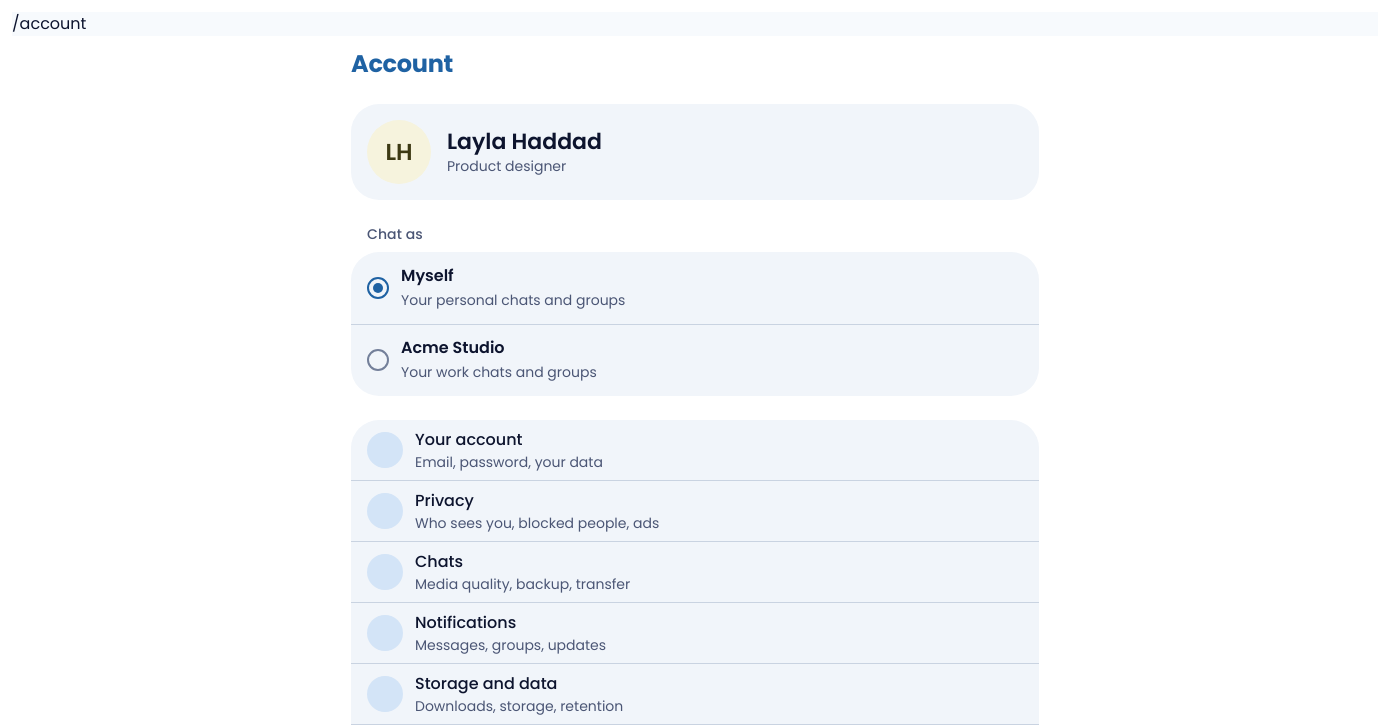
Test: settings home › opens a settings page when a row is tapped
Expected: the text "Layla Haddad" is shown, left=447, top=126, right=602, bottom=157
Click the button "Privacy Who sees you, blocked people, ads".
click(385, 511)  # box left=351, top=480, right=1039, bottom=541
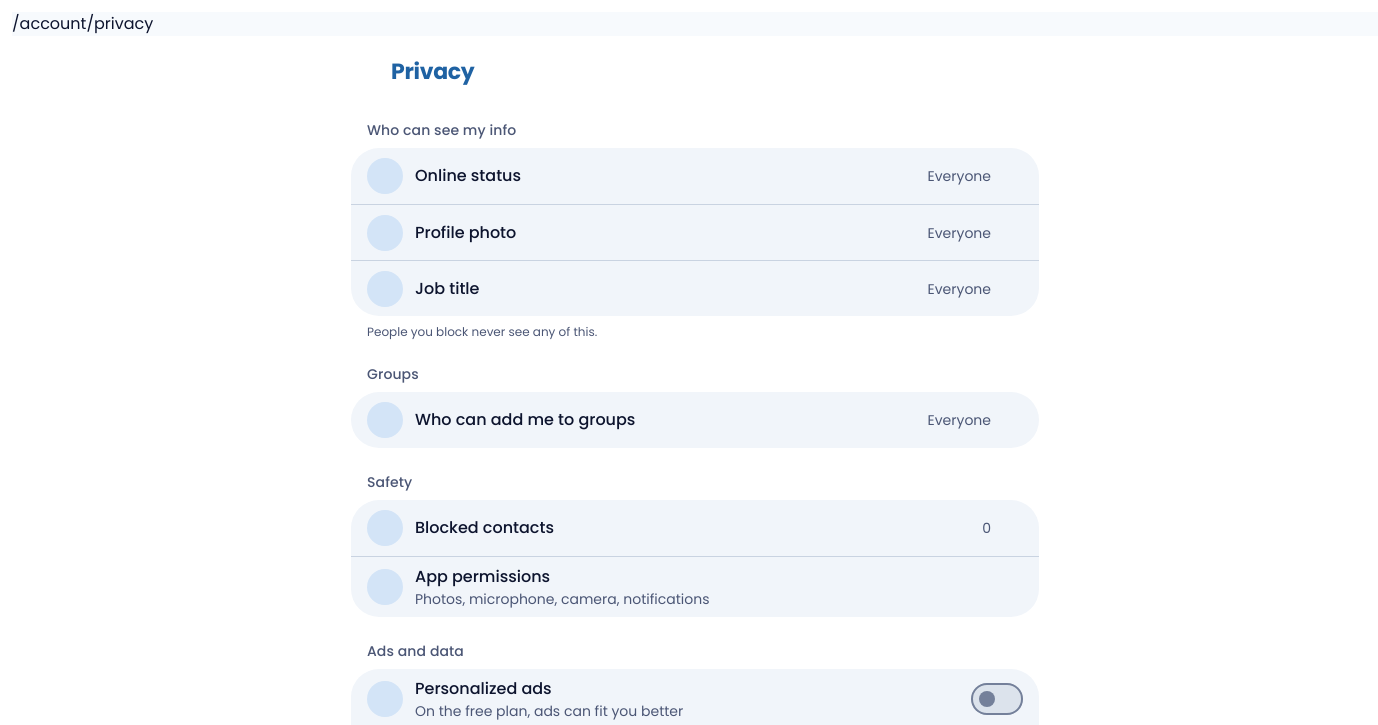
Expected: the text with test id "where" reads "/account/privacy", left=12, top=12, right=153, bottom=35
